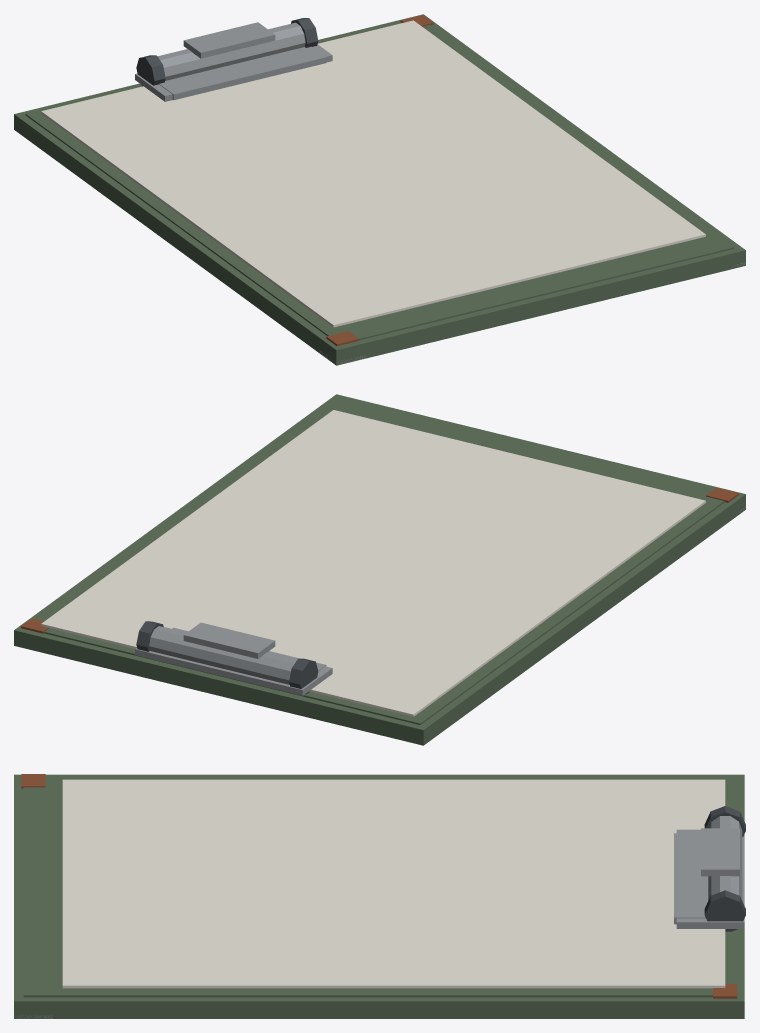
File: clipboard_woodland.glb
3 renders of one model, top to bottom at view 1: azimuth 30°, elevation 25°; view 2: azimuth 150°, elevation 25°; view 3: azimuth 270°, elevation 25°, orthographic. The views are drawn at different scales.
Visible parts, largest first — view 1: Clipboard_Paper, Clipboard_Board, Clipboard_Clip; view 2: Clipboard_Paper, Clipboard_Board, Clipboard_Clip; view 3: Clipboard_Paper, Clipboard_Board, Clipboard_Clip.
Boxes of the visible parts, x1,y1,x2,y2 form: Clipboard_Paper: (41,20,705,327); Clipboard_Board: (14,14,745,365); Clipboard_Clip: (135,18,332,101); Clipboard_Paper: (41,410,705,716); Clipboard_Board: (14,394,745,745); Clipboard_Clip: (135,621,332,695); Clipboard_Paper: (62,779,725,988); Clipboard_Board: (14,774,744,1018); Clipboard_Clip: (674,806,745,931).
Bounding box in the file's own units: 0.22 × 0.0257 × 0.3005.
